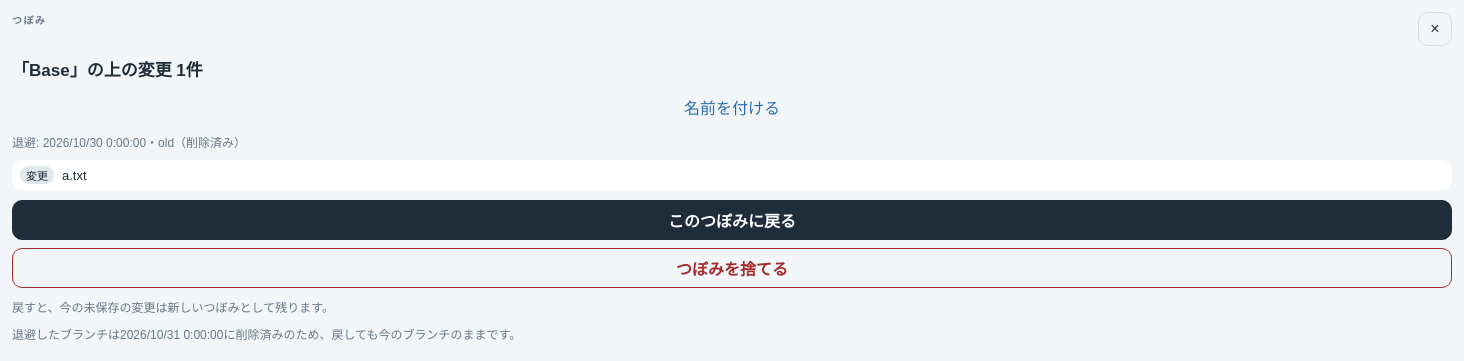
Scenario: BudPanel › names an unnamed bud and closes the editor once saved
The image size is (1464, 361).
Expected: the heading "「Base」の上の変更 1件" is shown, [12,61,203,80]
Click the button "名前を付ける". click: (732, 107)
box: [12,91,1452,123]
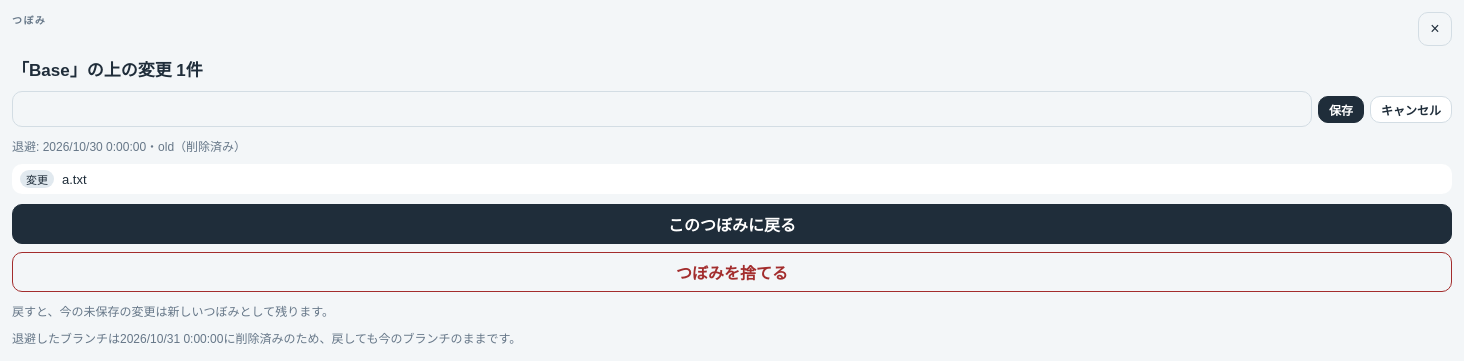
Type "別案" into the field named "つぼみの名前". click: (662, 109)
box: [12,91,1312,127]
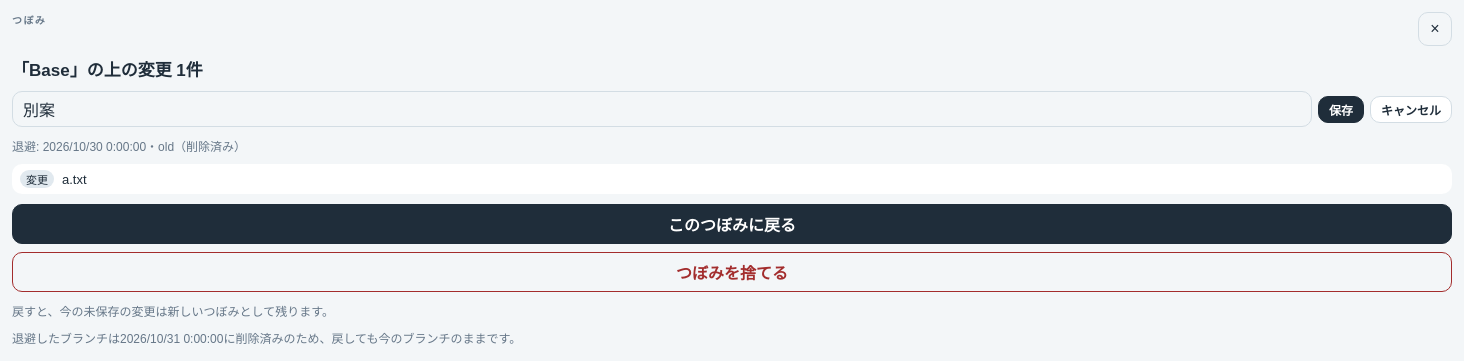
Click the button "保存". click: (1341, 109)
box: [1318,96,1364,122]
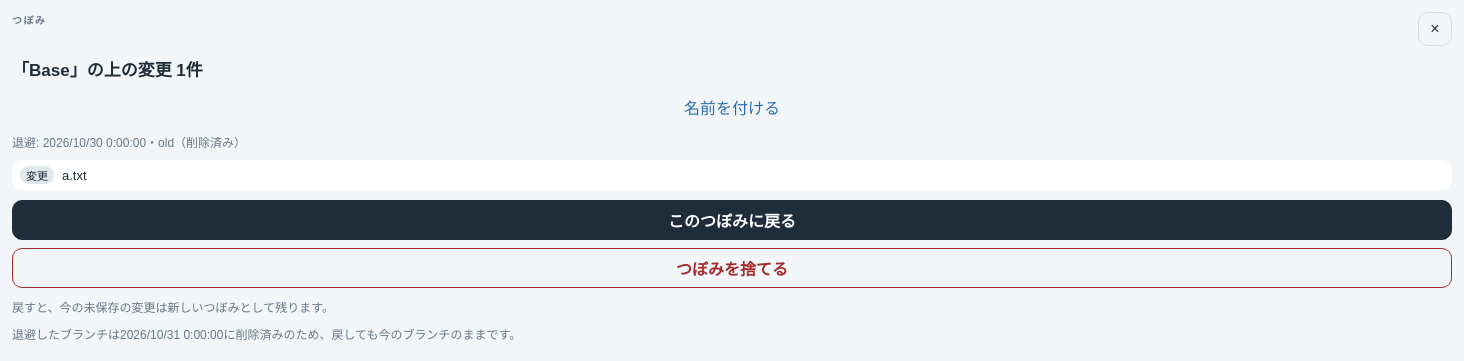
Expected: the field labelled "つぼみの名前" is gone
